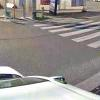crosswalks: (27, 19, 100, 45)
